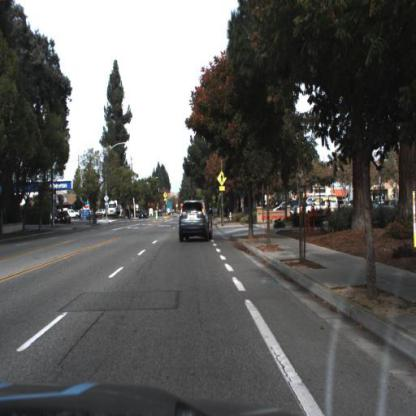car: (178, 199, 217, 245), (290, 194, 340, 222), (55, 209, 75, 226), (137, 206, 150, 223)
truck: (108, 198, 122, 223)
